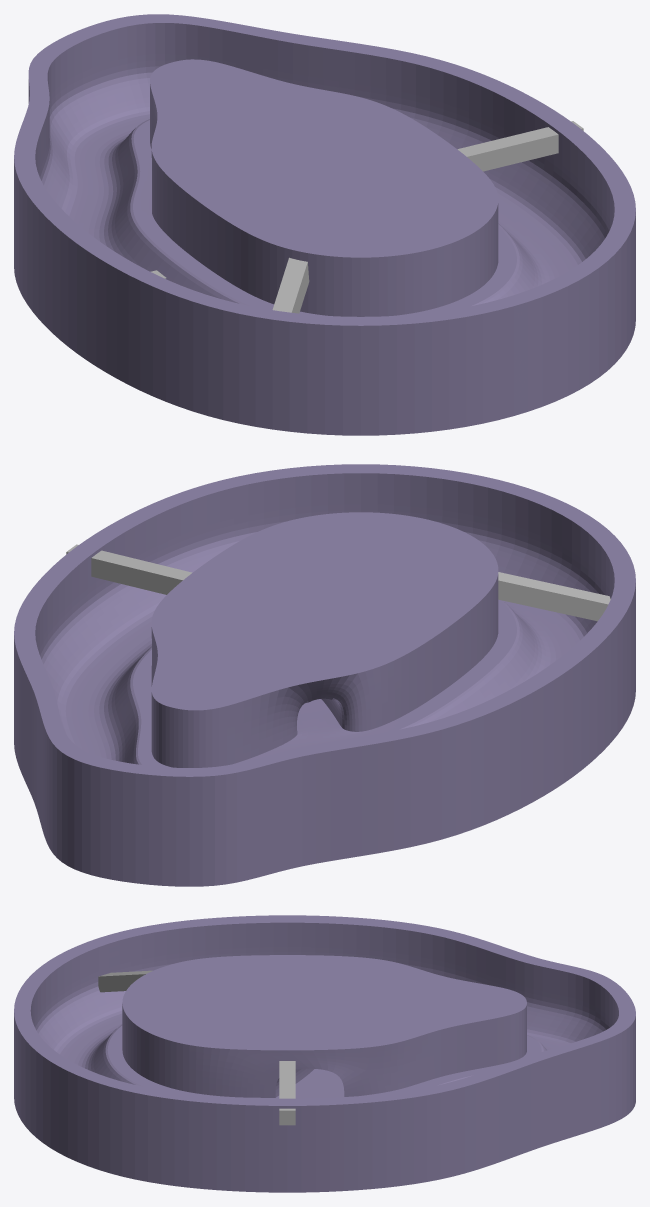
The model's file is track2.fbx.
3 renders of one model, top to bottom at view 1: azimuth 30°, elevation 25°; view 2: azimuth 150°, elevation 25°; view 3: azimuth 270°, elevation 25°, orthographic. The views are drawn at different scales.
Visible parts, largest first — view 1: Plane, Cube, Cube.001; view 2: Plane, Cube.001, Cube; view 3: Plane, Cube, Cube.001.
Boxes of the visible parts, box(x1,y1,x2,y2) form: Plane: box(14, 14, 635, 435); Cube: box(457, 121, 583, 171); Cube.001: box(272, 257, 309, 313); Plane: box(14, 464, 635, 886); Cube.001: box(498, 572, 610, 621); Cube: box(66, 544, 192, 594); Plane: box(14, 915, 635, 1192); Cube: box(279, 1061, 295, 1125); Cube.001: box(98, 970, 152, 992).
Size of the model in its own units: 5634 by 1288 by 7677.
